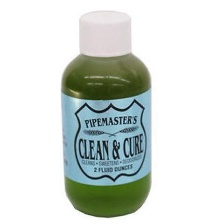cleaning_solution: (57, 8, 156, 221)
